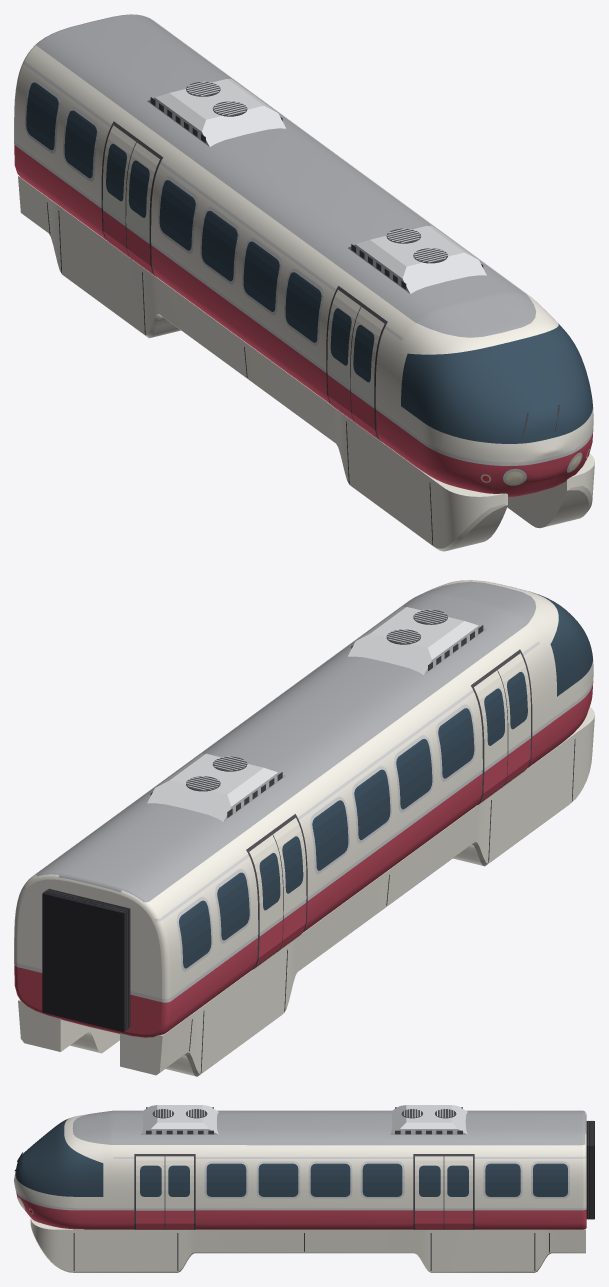
Rendered from 320_close.fbx.
The picture shows the model from 3 angles, top to bottom: view 1: azimuth 30°, elevation 25°; view 2: azimuth 150°, elevation 25°; view 3: azimuth 270°, elevation 25°; orthographic projection. The views are drawn at different scales.
Parts seen in each view (by area): view 1: 320_close; view 2: 320_close; view 3: 320_close.
Boxes of the visible parts, x1,y1,x2,y2 form: 320_close: (14, 14, 594, 551); 320_close: (14, 580, 594, 1076); 320_close: (14, 1105, 594, 1272).
Bounding box in the file's own units: 2.72 × 3.71 × 14.
